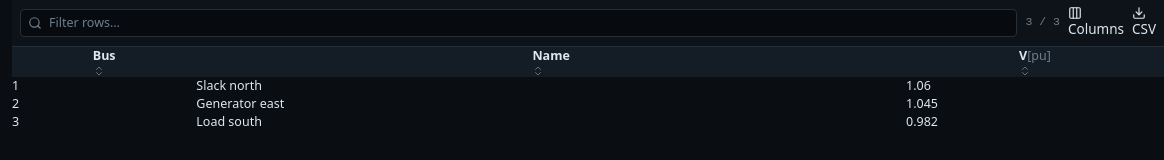
DataTable › filters rows by the visible columns
This screenshot has width=1164, height=160.
Expected: the number of rows is 4, x1=12 y1=47 x2=1163 y2=77; x1=12 y1=77 x2=1163 y2=95; x1=12 y1=95 x2=1163 y2=113; x1=12 y1=113 x2=1163 y2=131
Type "south" into the search field labelled "Filter rows…".
click(519, 23); type("south")  # box x1=20 y1=9 x2=1018 y2=37
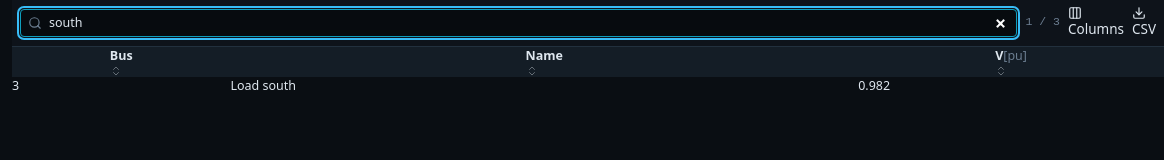
Expected: the text "Load south" is shown, x1=230 y1=77 x2=858 y2=95
Now the number of rows is 2, box x1=12 y1=47 x2=1163 y2=77; x1=12 y1=77 x2=1163 y2=95
